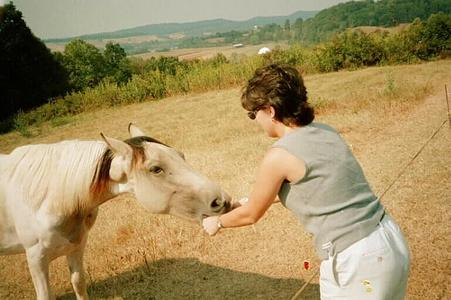person: (204, 62, 412, 300)
